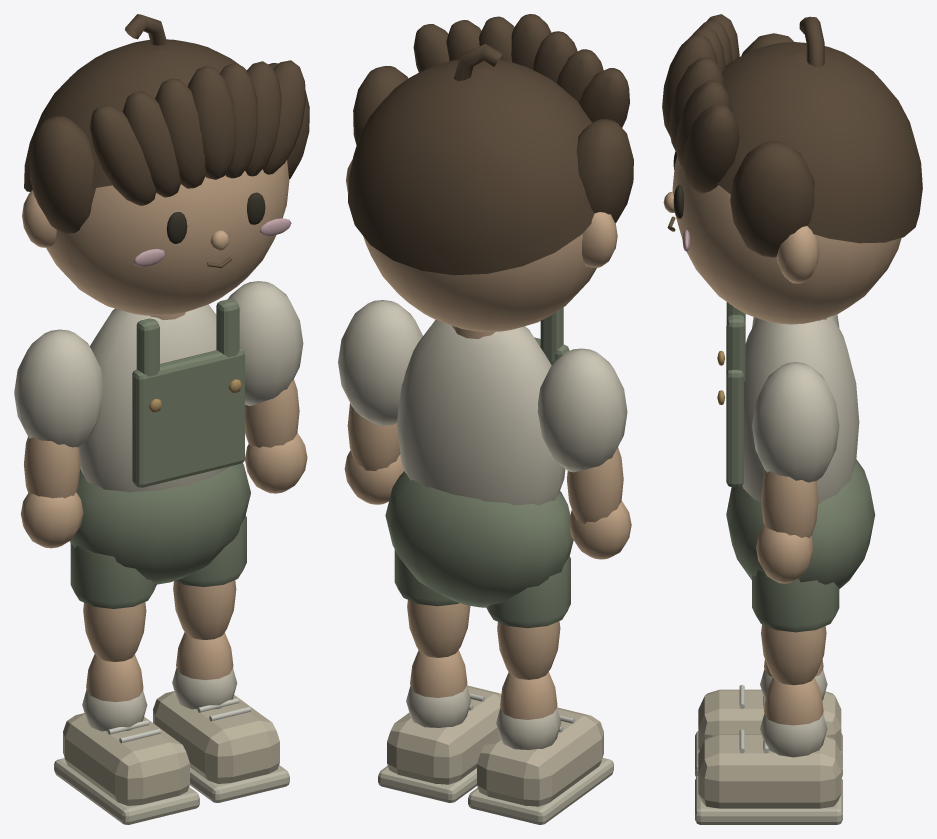
Rendered from visitor.glb.
The picture shows the model from 3 angles, left to right: view 1: azimuth 30°, elevation 25°; view 2: azimuth 150°, elevation 25°; view 3: azimuth 270°, elevation 25°; orthographic projection.
Parts seen in each view (by area): view 1: HeadPivot__RT_ExportPalette_0.720_0.000, BodyPivot__RT_ExportPalette_0.720_0.000, Knee_L__RT_ExportPalette_0.720_0.000, Knee_R__RT_ExportPalette_0.720_0.000, Sleeve_L, Leg_L__RT_ExportPalette_0.720_0.000, Sleeve_R, Arm_L__RT_ExportPalette_0.720_0.000, Arm_R__RT_ExportPalette_0.720_0.000, Leg_R__RT_ExportPalette_0.720_0.000, Face_Eyes__RT_ExportPalette_0.720_0.000; view 2: HeadPivot__RT_ExportPalette_0.720_0.000, BodyPivot__RT_ExportPalette_0.720_0.000, Knee_L__RT_ExportPalette_0.720_0.000, Knee_R__RT_ExportPalette_0.720_0.000, Sleeve_L, Sleeve_R, Leg_L__RT_ExportPalette_0.720_0.000, Arm_L__RT_ExportPalette_0.720_0.000, Arm_R__RT_ExportPalette_0.720_0.000, Leg_R__RT_ExportPalette_0.720_0.000; view 3: HeadPivot__RT_ExportPalette_0.720_0.000, BodyPivot__RT_ExportPalette_0.720_0.000, Knee_R__RT_ExportPalette_0.720_0.000, Sleeve_R, Leg_R__RT_ExportPalette_0.720_0.000, Arm_R__RT_ExportPalette_0.720_0.000, Knee_L__RT_ExportPalette_0.720_0.000.
Boxes of the visible parts, left/top/right/bottom form: HeadPivot__RT_ExportPalette_0.720_0.000: left=22, top=14, right=309, bottom=315; BodyPivot__RT_ExportPalette_0.720_0.000: left=69, top=299, right=250, bottom=584; Knee_L__RT_ExportPalette_0.720_0.000: left=54, top=654, right=199, bottom=824; Knee_R__RT_ExportPalette_0.720_0.000: left=153, top=632, right=289, bottom=802; Sleeve_L: left=14, top=329, right=103, bottom=447; Leg_L__RT_ExportPalette_0.720_0.000: left=70, top=542, right=156, bottom=661; Sleeve_R: left=228, top=281, right=303, bottom=405; Arm_L__RT_ExportPalette_0.720_0.000: left=21, top=436, right=83, bottom=548; Arm_R__RT_ExportPalette_0.720_0.000: left=245, top=379, right=307, bottom=493; Leg_R__RT_ExportPalette_0.720_0.000: left=173, top=515, right=246, bottom=639; Face_Eyes__RT_ExportPalette_0.720_0.000: left=166, top=192, right=265, bottom=243; HeadPivot__RT_ExportPalette_0.720_0.000: left=346, top=14, right=633, bottom=331; BodyPivot__RT_ExportPalette_0.720_0.000: left=385, top=307, right=573, bottom=607; Knee_L__RT_ExportPalette_0.720_0.000: left=468, top=672, right=613, bottom=824; Knee_R__RT_ExportPalette_0.720_0.000: left=378, top=650, right=501, bottom=802; Sleeve_L: left=537, top=348, right=627, bottom=472; Sleeve_R: left=338, top=300, right=422, bottom=425; Leg_L__RT_ExportPalette_0.720_0.000: left=486, top=556, right=570, bottom=679; Arm_L__RT_ExportPalette_0.720_0.000: left=567, top=447, right=631, bottom=559; Arm_R__RT_ExportPalette_0.720_0.000: left=344, top=403, right=404, bottom=504; Leg_R__RT_ExportPalette_0.720_0.000: left=394, top=549, right=470, bottom=657; HeadPivot__RT_ExportPalette_0.720_0.000: left=662, top=14, right=922, bottom=324; BodyPivot__RT_ExportPalette_0.720_0.000: left=717, top=302, right=875, bottom=588; Knee_R__RT_ExportPalette_0.720_0.000: left=695, top=677, right=842, bottom=824; Sleeve_R: left=752, top=362, right=839, bottom=482; Leg_R__RT_ExportPalette_0.720_0.000: left=752, top=570, right=839, bottom=685; Arm_R__RT_ExportPalette_0.720_0.000: left=756, top=470, right=818, bottom=583; Knee_L__RT_ExportPalette_0.720_0.000: left=695, top=659, right=842, bottom=777.
Size of the model in its own units: 0.3499 by 0.9 by 0.2783.
